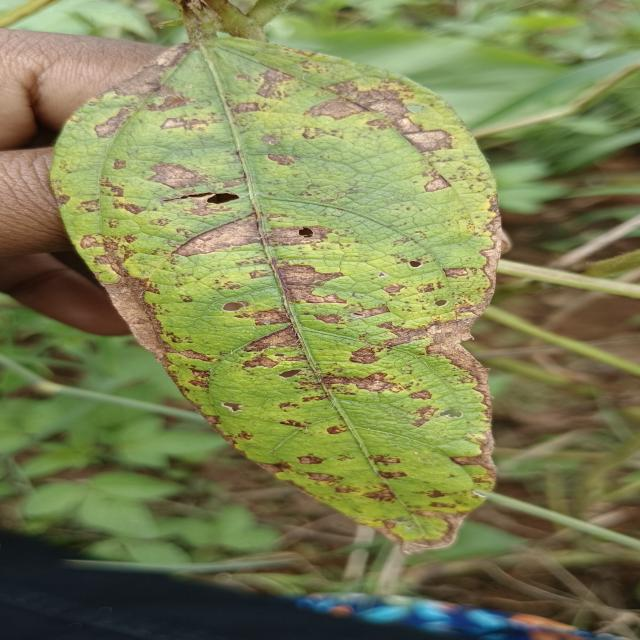Black gram_leaf spot: (42, 24, 518, 557)
